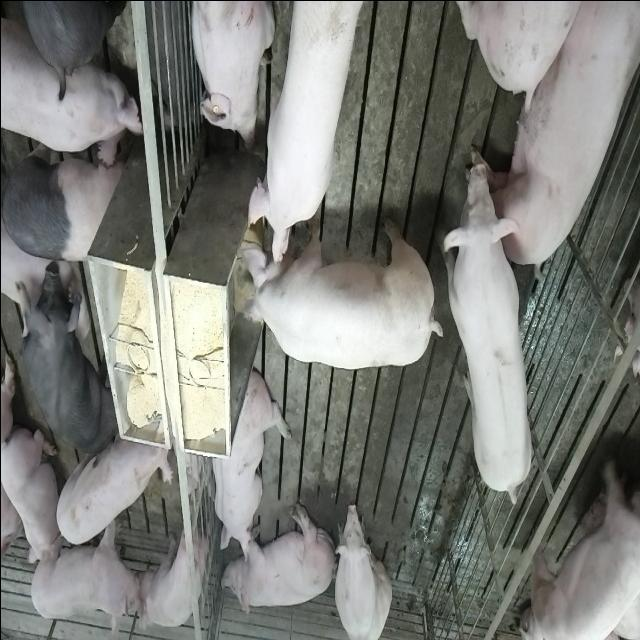Feeding: (233, 212, 442, 374), (246, 8, 362, 272)
Lateral_lying: (220, 502, 336, 618)
Sitting: (332, 496, 391, 638)
Standing: (440, 158, 537, 511), (2, 3, 140, 169), (527, 450, 640, 640), (18, 267, 116, 457), (2, 126, 126, 262), (51, 424, 169, 544), (28, 512, 140, 632), (8, 2, 125, 86), (135, 511, 204, 626)
Sternal_lying: (208, 366, 286, 560), (185, 0, 272, 147), (3, 420, 60, 568), (0, 486, 24, 576)
